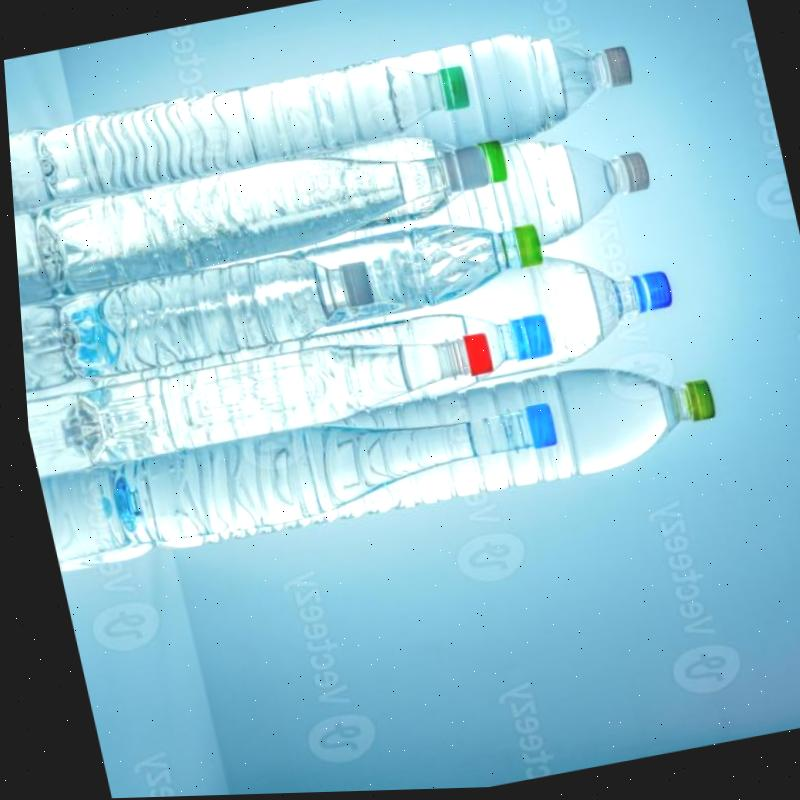botella: (123, 346, 723, 557), (169, 122, 659, 309), (25, 126, 496, 296), (85, 295, 557, 460), (102, 383, 560, 550), (29, 48, 476, 203), (59, 315, 495, 469), (300, 236, 681, 410), (42, 242, 376, 382), (346, 16, 641, 171), (286, 206, 546, 331)
